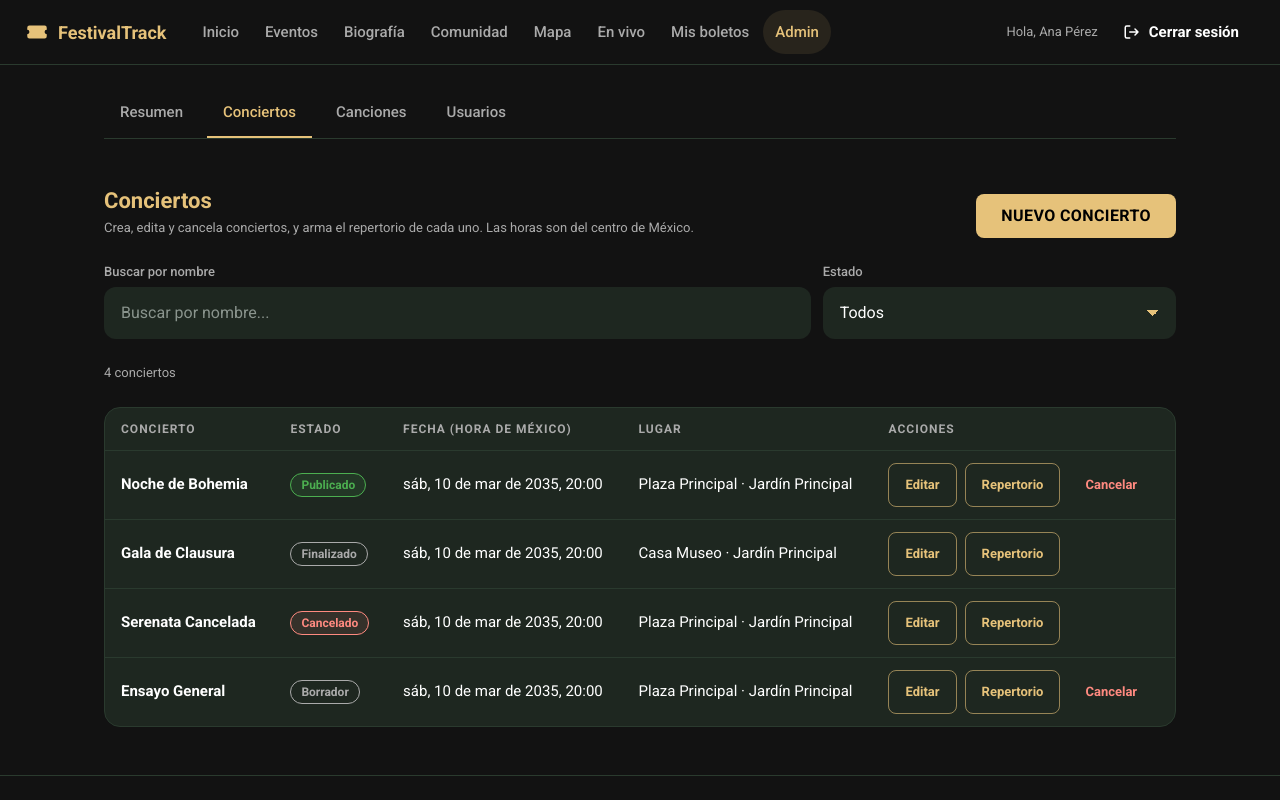
Test case: cancelar un concierto › un 403 se muestra como falta de permisos, no como error genérico
The image size is (1280, 800).
Click the button with aria-label "Cancelar Noche de Bohemia". click: (1111, 484)
box: [1068,462,1154,506]
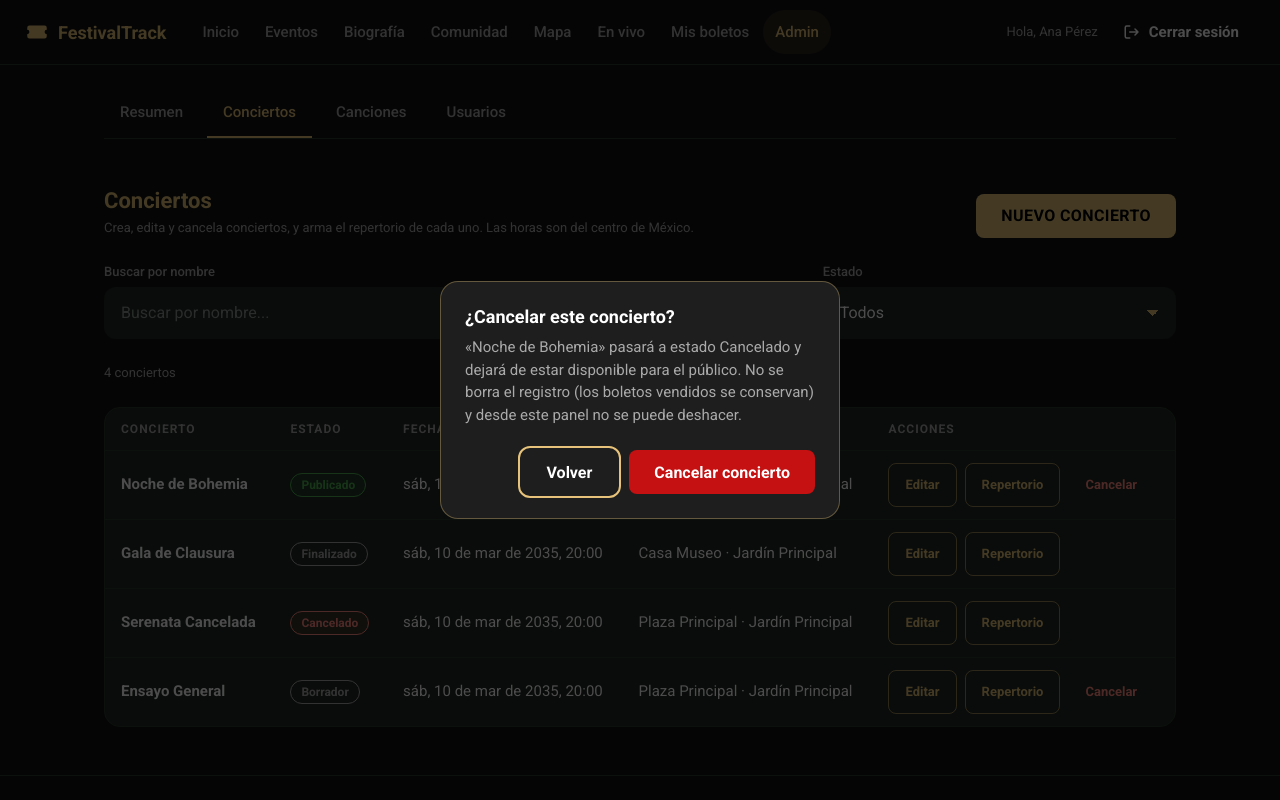
Click the button "Cancelar concierto". click: (722, 472)
box: [629,450,815,494]
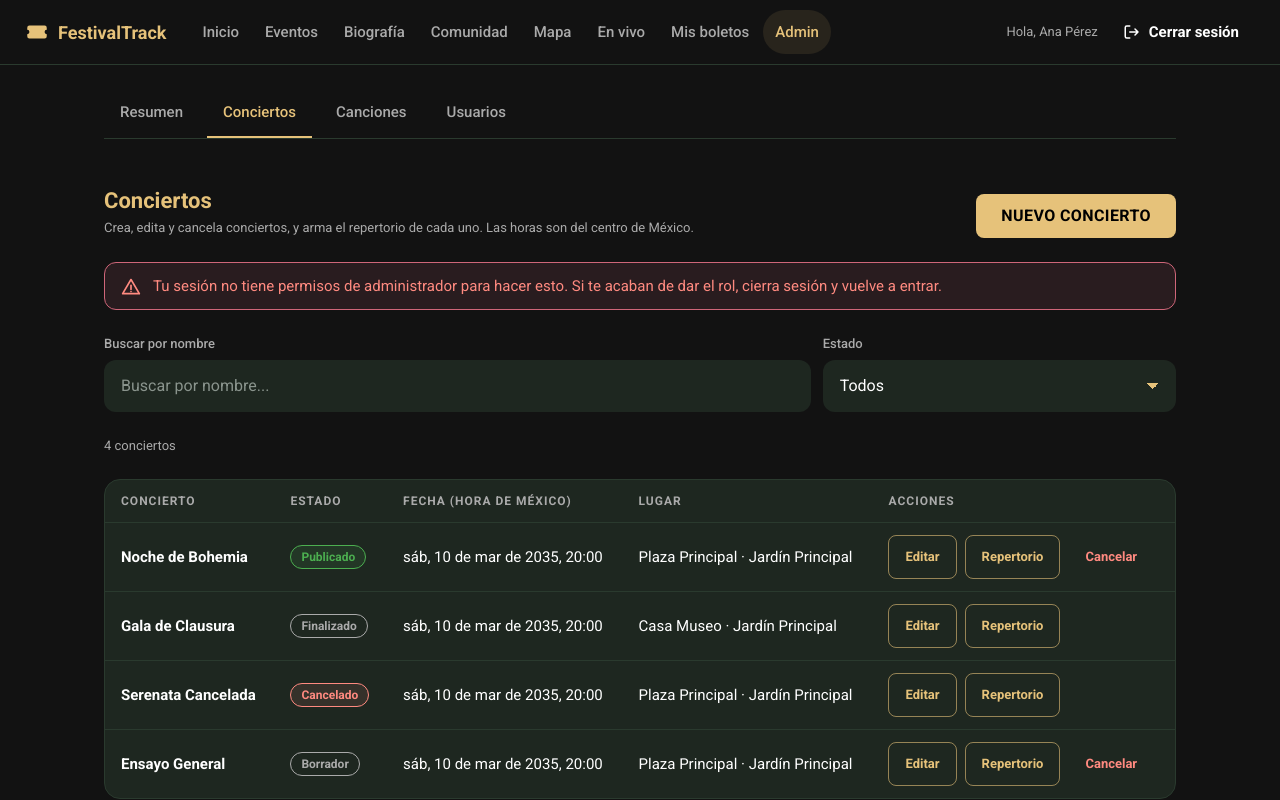
Now the 1st message shows "no tiene permisos de administrador", box [153,276,942,294]
